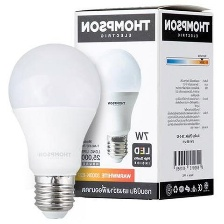book: (70, 0, 219, 206)
light_bulb: (4, 37, 104, 223)
